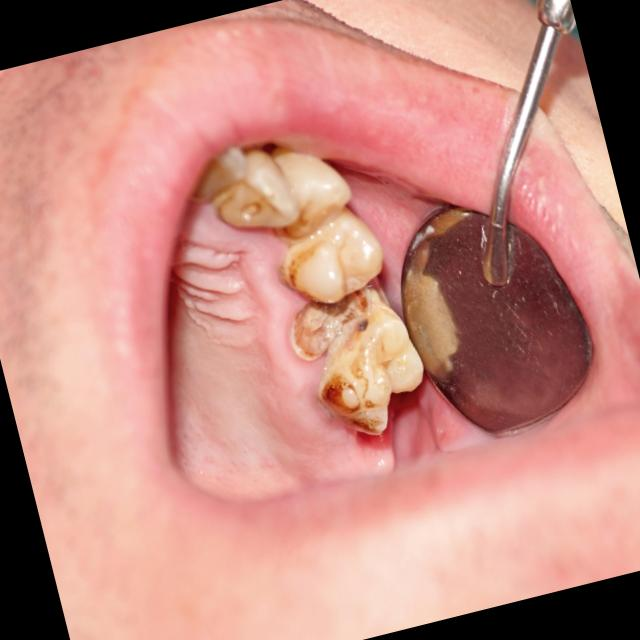Caries: (358, 319, 368, 331)
Tooth: (317, 287, 424, 435), (277, 205, 382, 302), (271, 147, 350, 244), (212, 150, 299, 227), (290, 285, 371, 360)
